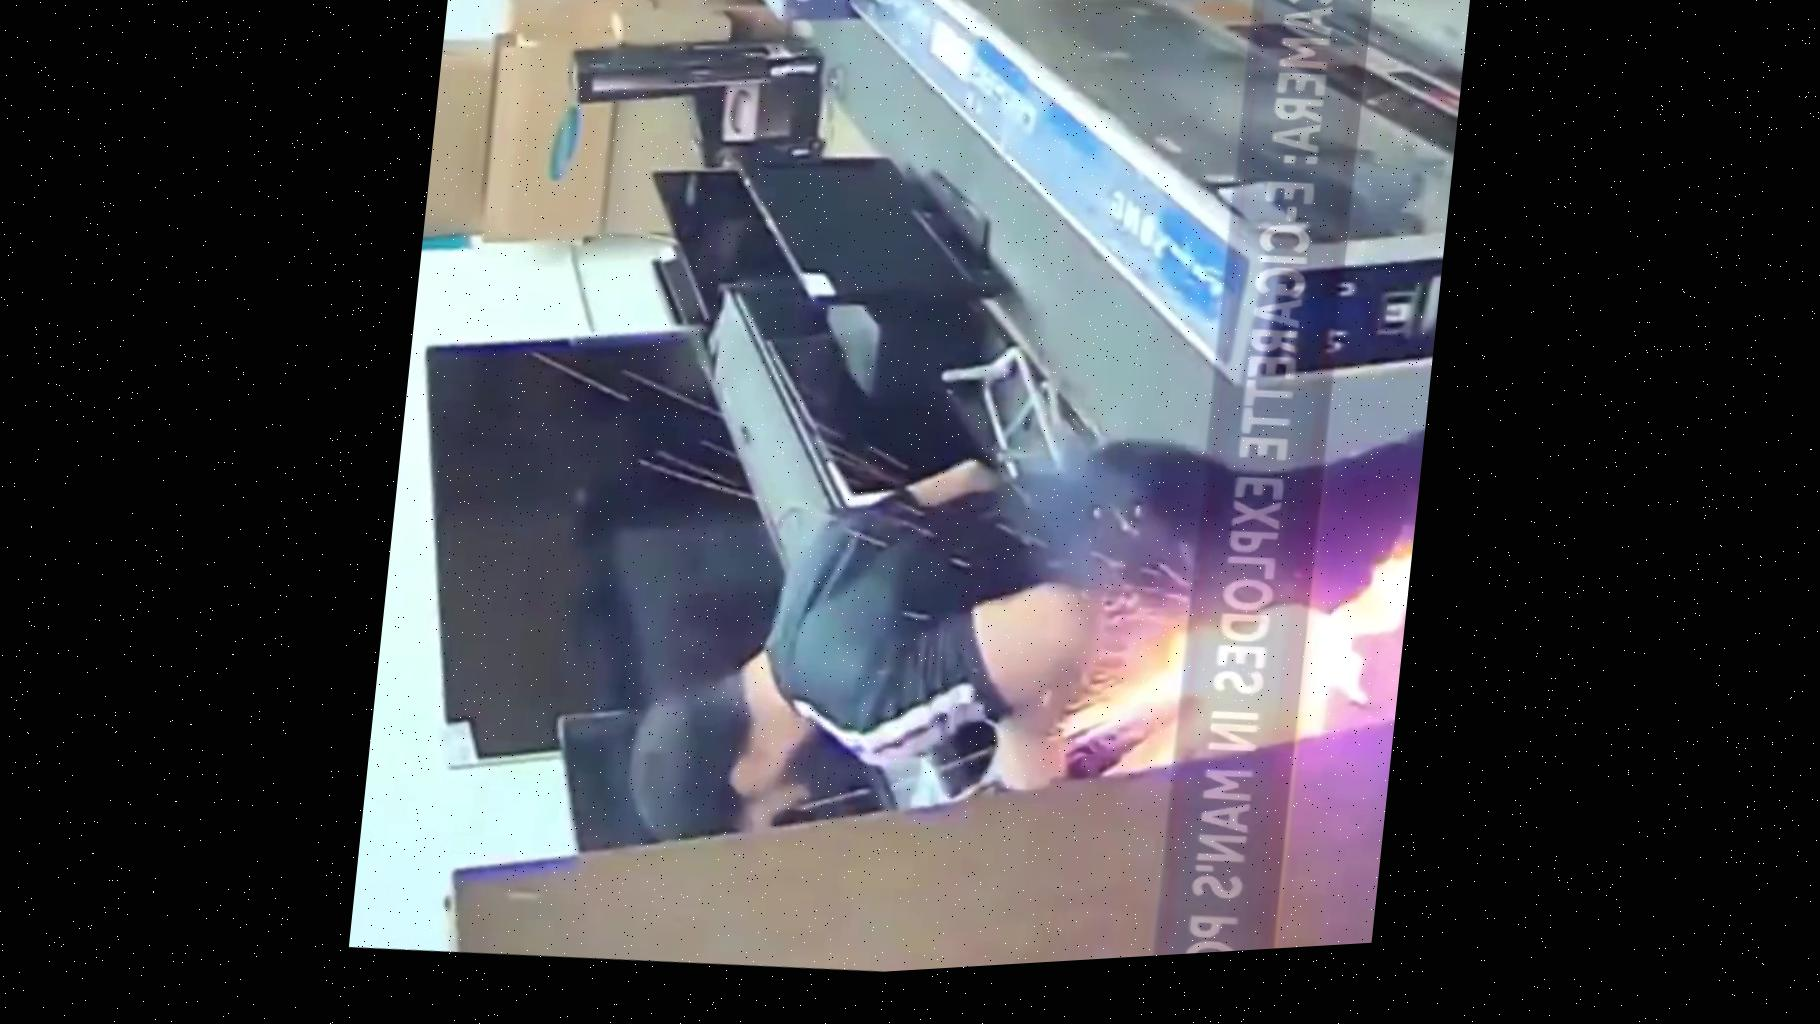fire: (182, 103, 1637, 921), (986, 526, 1430, 811)
